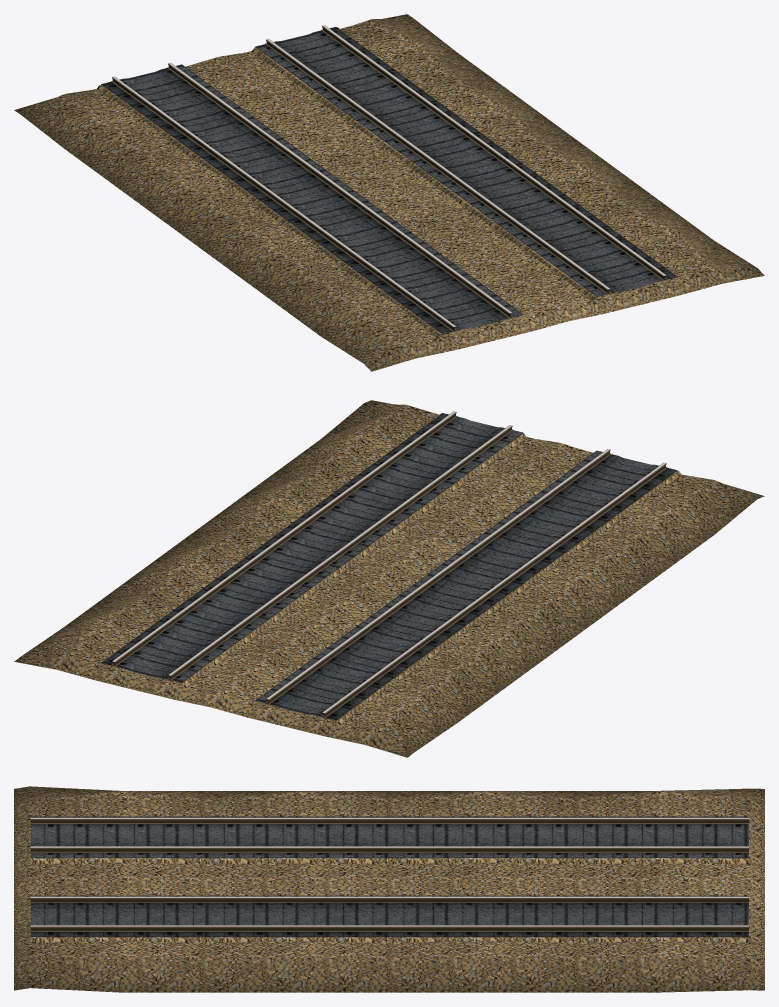
Rendered from 2RAIL50_JARI_WN.glb.
3 renders of one model, top to bottom at view 1: azimuth 30°, elevation 25°; view 2: azimuth 150°, elevation 25°; view 3: azimuth 270°, elevation 25°, orthographic. The views are drawn at different scales.
Visible parts, largest first — view 1: obj6; view 2: obj6; view 3: obj6.
Boxes of the visible parts, box(x1,y1,x2,y2) form: obj6: box(14, 14, 764, 371); obj6: box(14, 400, 764, 757); obj6: box(14, 786, 764, 992).
Size of the model in its own units: 33.22 by 1.51 by 52.26.
3 materials, 2 textured.
